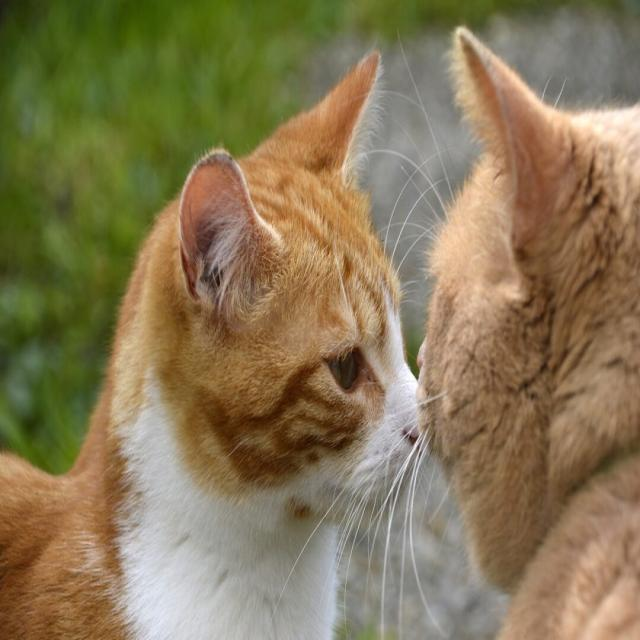cat: (0, 52, 418, 638), (418, 28, 640, 637)
